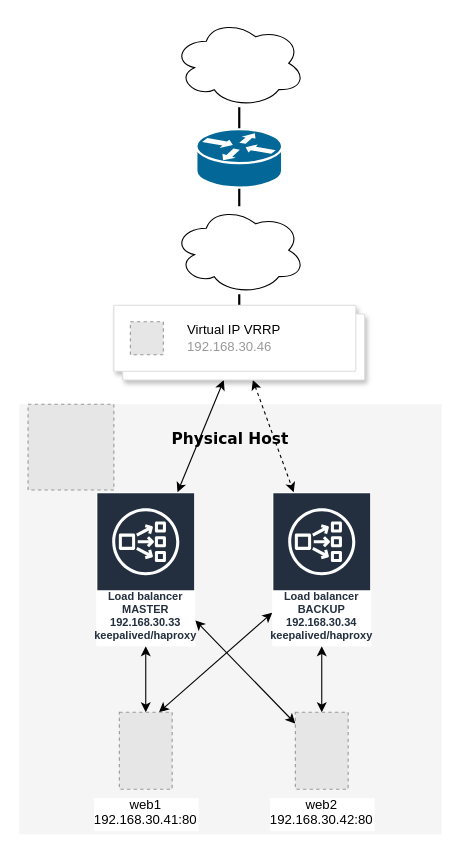
Some shapes in this 460 by 854 pixel diagram are drawn without their labels. Grey dashed boxes stand in for pictures. The centre of each missing label's shape, as x and y in pixels:
"Internet" belongs at (238,62).
"LAN" belongs at (238,249).
